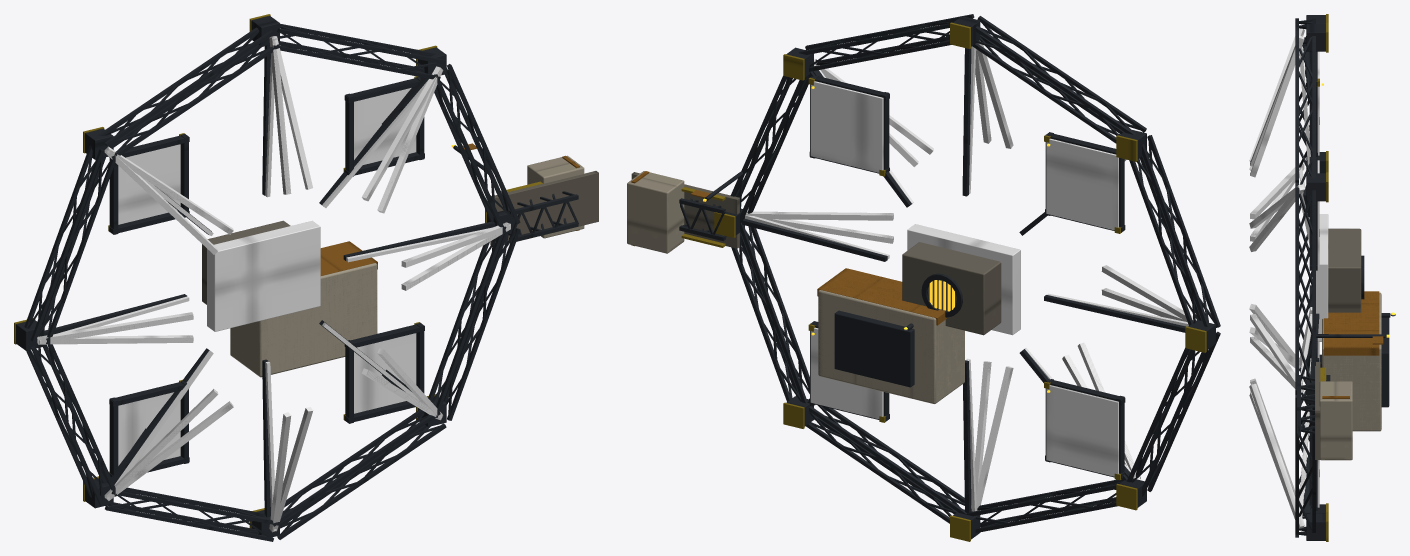
File: place_claim_outpost_base.glb
3 views of the same model, side by side, from view 1: azimuth 30°, elevation 25°; view 2: azimuth 150°, elevation 25°; view 3: azimuth 270°, elevation 25° (orthographic). The views are drawn at different scales.
Parts seen in each view (by area): view 1: LOD0_Armor, LOD0_MechanicalDark, LOD1_Armor, LOD0_Hull, LOD1_MechanicalDark, LOD0_Hull_aged, LOD1_Hull, LOD0_Livery; view 2: LOD0_Armor, LOD0_MechanicalDark, LOD1_Armor, LOD0_Hull, LOD0_Hull_aged, LOD1_MechanicalDark, LOD0_Warning, LOD1_Hull, LOD0_Livery, LOD1_Livery; view 3: LOD0_Armor, LOD0_MechanicalDark, LOD0_Hull, LOD1_Armor, LOD0_Hull_aged, LOD0_Livery, LOD1_MechanicalDark, LOD1_Hull, LOD1_Livery, LOD0_Warning, LOD2_Armor.
Part boxes in pixels (<box>): LOD0_Armor: <box>16,16,578,541</box>; LOD0_MechanicalDark: <box>37,36,510,532</box>; LOD1_Armor: <box>25,24,578,541</box>; LOD0_Hull: <box>230,156,584,377</box>; LOD1_MechanicalDark: <box>38,36,510,530</box>; LOD0_Hull_aged: <box>202,171,598,304</box>; LOD1_Hull: <box>230,155,584,376</box>; LOD0_Livery: <box>320,143,579,275</box>; LOD0_Armor: <box>679,14,1220,539</box>; LOD0_MechanicalDark: <box>745,40,1196,511</box>; LOD1_Armor: <box>679,14,1220,526</box>; LOD0_Hull: <box>627,171,964,403</box>; LOD0_Hull_aged: <box>631,172,1001,334</box>; LOD1_MechanicalDark: <box>745,48,1188,510</box>; LOD0_Warning: <box>681,22,1206,541</box>; LOD1_Hull: <box>627,172,964,403</box>; LOD0_Livery: <box>631,171,946,325</box>; LOD1_Livery: <box>631,171,946,325</box>; LOD0_Armor: <box>1295,15,1390,540</box>; LOD0_MechanicalDark: <box>1249,28,1328,528</box>; LOD0_Hull: <box>1319,293,1381,460</box>; LOD1_Armor: <box>1295,18,1388,537</box>; LOD0_Hull_aged: <box>1315,229,1361,459</box>; LOD0_Livery: <box>1322,291,1383,398</box>; LOD1_MechanicalDark: <box>1249,37,1311,527</box>; LOD1_Hull: <box>1320,293,1381,459</box>; LOD1_Livery: <box>1322,291,1383,398</box>; LOD0_Warning: <box>1316,14,1328,541</box>; LOD2_Armor: <box>1298,58,1390,532</box>.
Size of what is drawn, in the model's own units: 98.2 by 83.4 by 22.11.
Materials: 18 (14 with a texture image).
